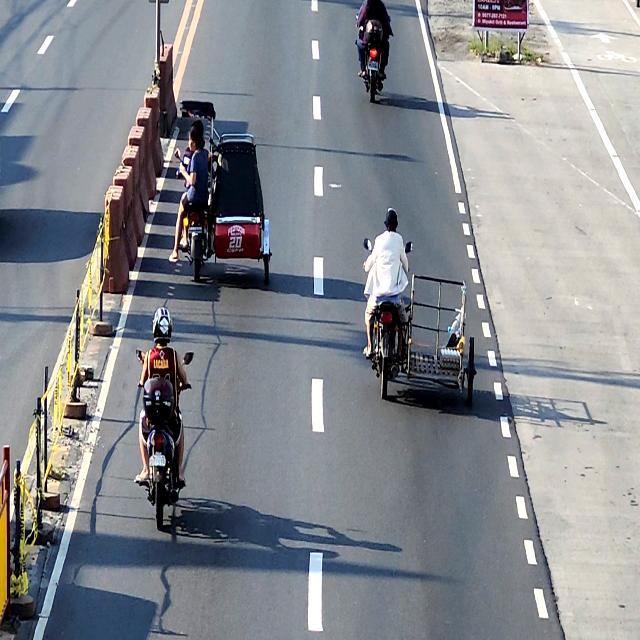License-Plate: (149, 455, 166, 466), (367, 60, 379, 70), (188, 226, 202, 234)
Motorcycle: (135, 348, 194, 531), (357, 12, 390, 104)
Tricycle: (362, 236, 478, 409), (174, 99, 272, 287)
